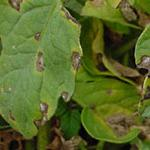Tomato Early blight leaf: (1, 3, 82, 131)
